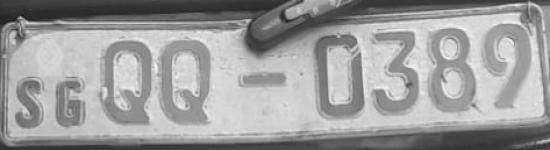-: (235, 68, 292, 92)
0: (310, 27, 370, 126)
3: (372, 24, 422, 122)
8: (422, 24, 480, 117)
9: (474, 18, 537, 114)
G: (52, 73, 96, 134)
Q: (157, 36, 223, 133), (98, 36, 157, 131)
S: (13, 73, 52, 134)
